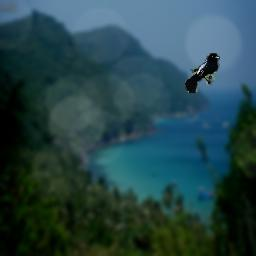Crow: (185, 53, 220, 93)
